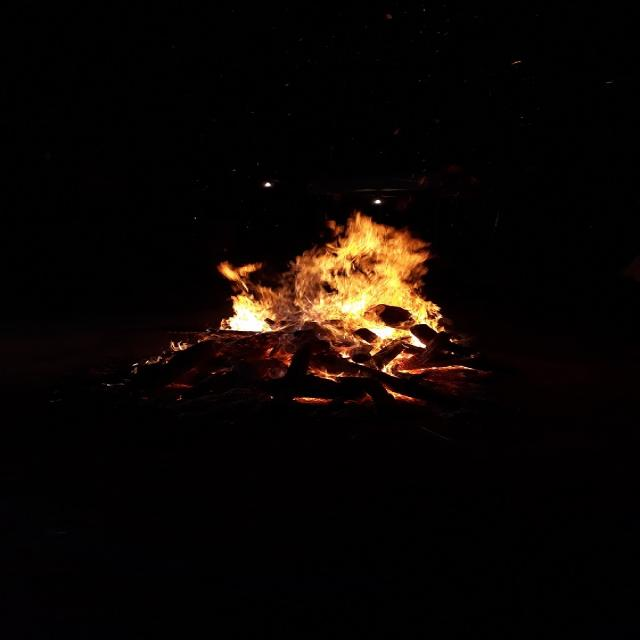fire: (217, 214, 462, 357)
